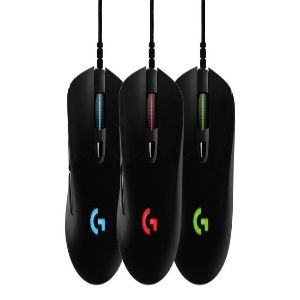mouse: (120, 47, 179, 284), (63, 60, 124, 287), (175, 52, 234, 284)
